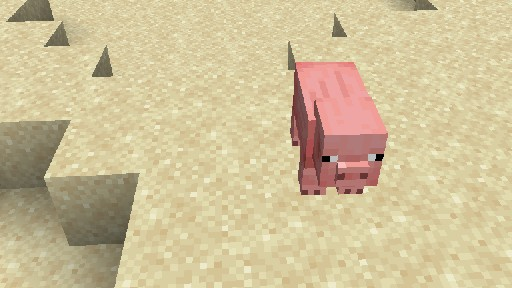pig: (289, 60, 388, 195)
